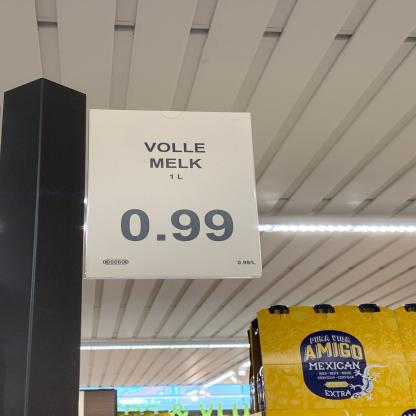prtg: (82, 110, 264, 280)
